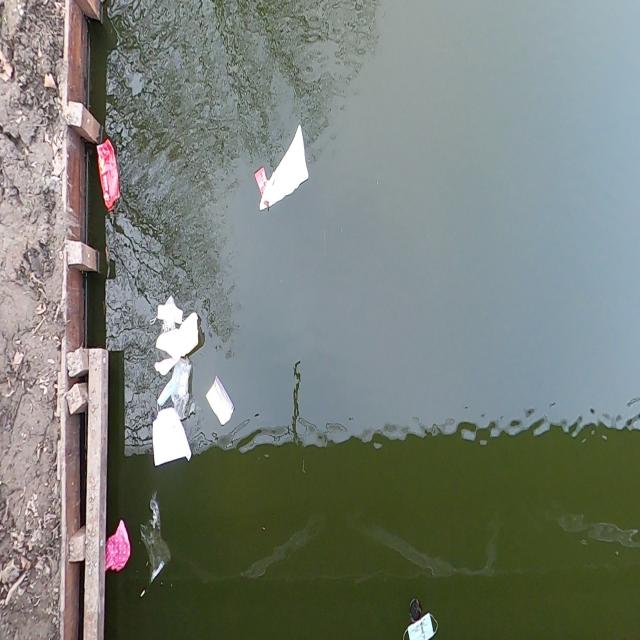Non plastique: (144, 291, 186, 329), (402, 603, 444, 640), (153, 378, 171, 417)
Sac plastique: (131, 494, 172, 601), (167, 358, 194, 426)
